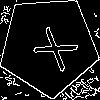X: (24, 21, 79, 73)
